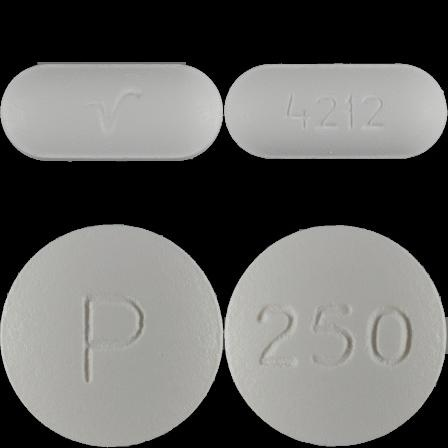43063-409: (0, 0, 224, 224)
